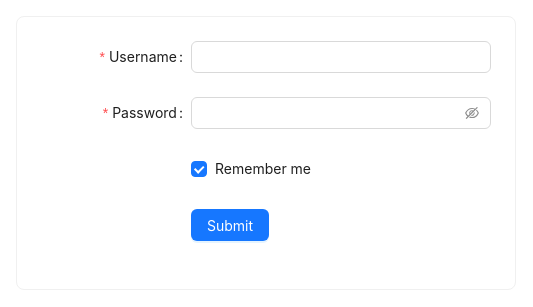
Scenario: LoginPage › should show error message when username is empty
What coordinates should you click on to do the following:
click the button
I would click on:
 (230, 225)
Its box is [191,209,269,241].
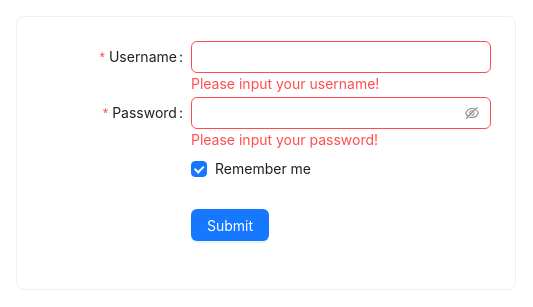
Expected: the text "Please input your username!" is shown, [191,75,379,92]
